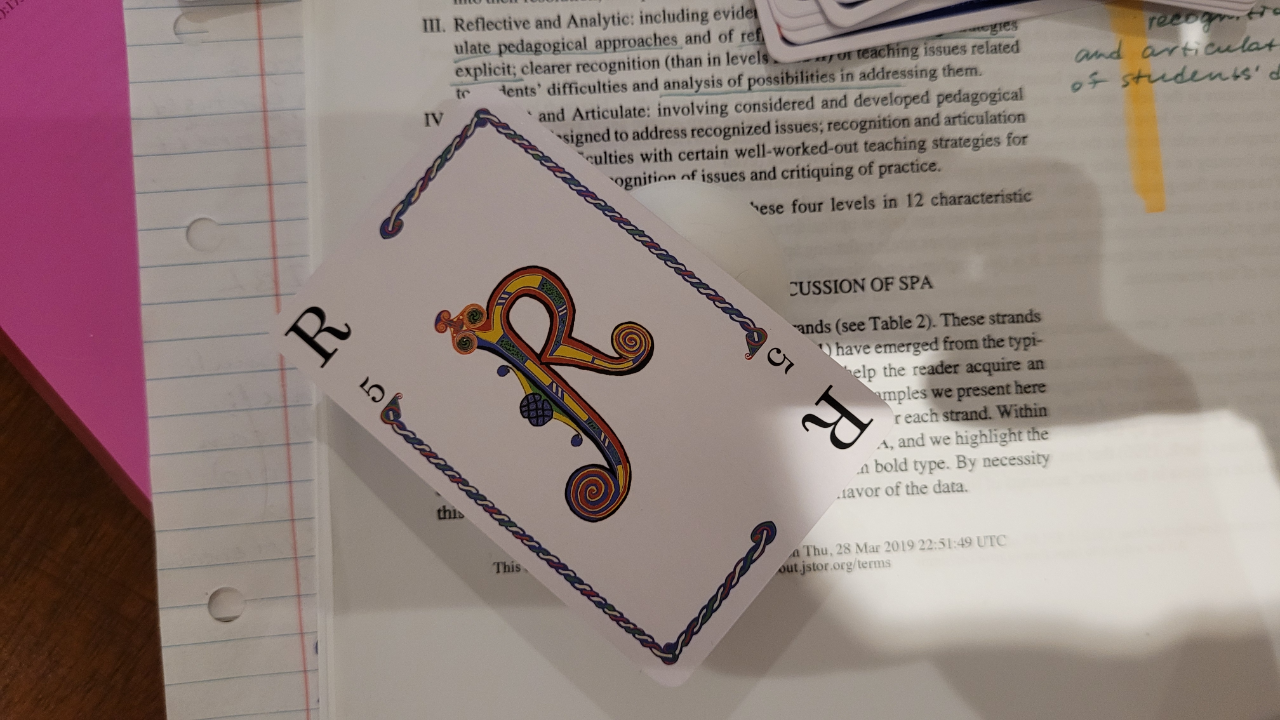quiddler_card: (264, 79, 908, 688)
